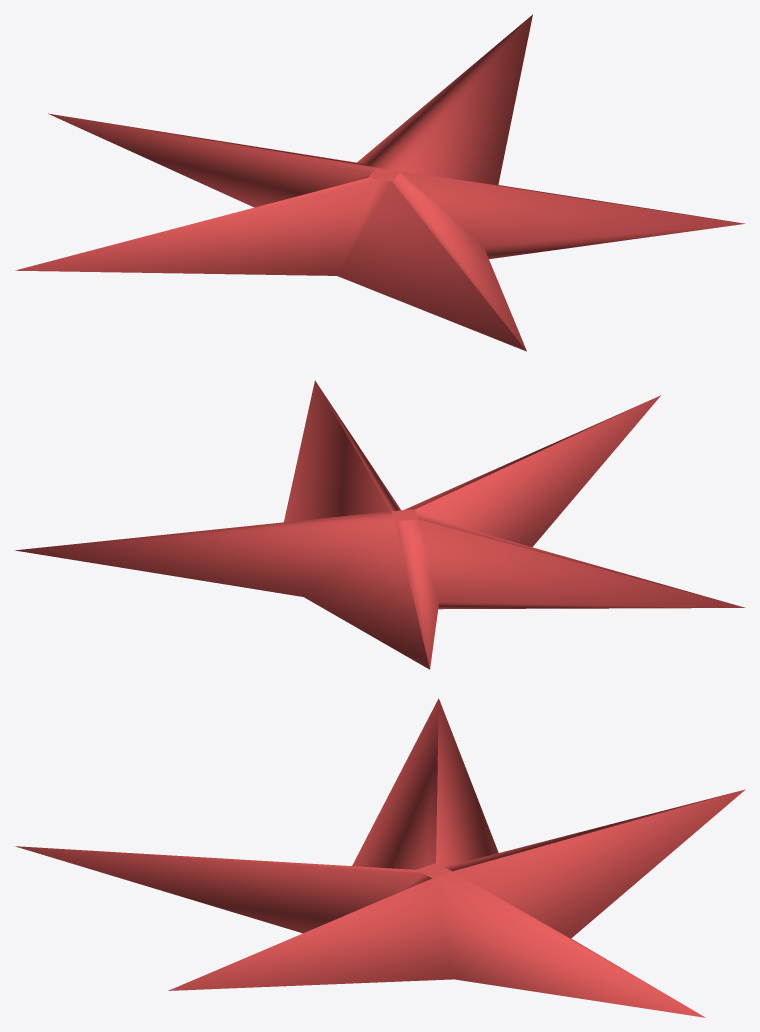
Rendered from MV_Zeester (1).fbx.
The picture shows the model from 3 angles, top to bottom: view 1: azimuth 30°, elevation 25°; view 2: azimuth 150°, elevation 25°; view 3: azimuth 270°, elevation 25°; orthographic projection. The views are drawn at different scales.
Parts seen in each view (by area): view 1: pasted__pasted__pCube1; view 2: pasted__pasted__pCube1; view 3: pasted__pasted__pCube1.
Part boxes in pixels (x1,y1,x2,y2): pasted__pasted__pCube1: [15, 14, 745, 351]; pasted__pasted__pCube1: [15, 380, 745, 669]; pasted__pasted__pCube1: [15, 698, 745, 1017].
Bounding box in the file's own units: 2.34 × 0.3272 × 2.26.
